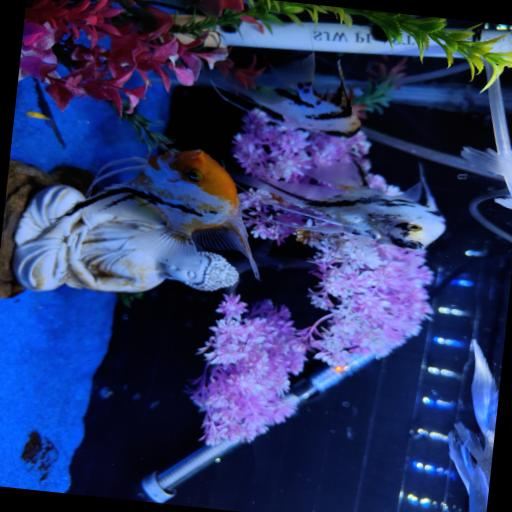Fish: (74, 149, 257, 277), (231, 163, 444, 249), (213, 53, 359, 137), (448, 339, 498, 511), (461, 146, 511, 186)
